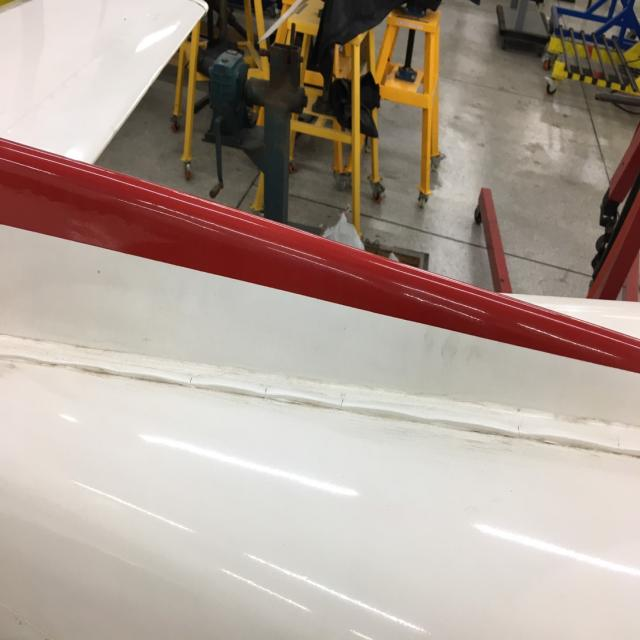Rupture: (145, 357, 635, 463)
